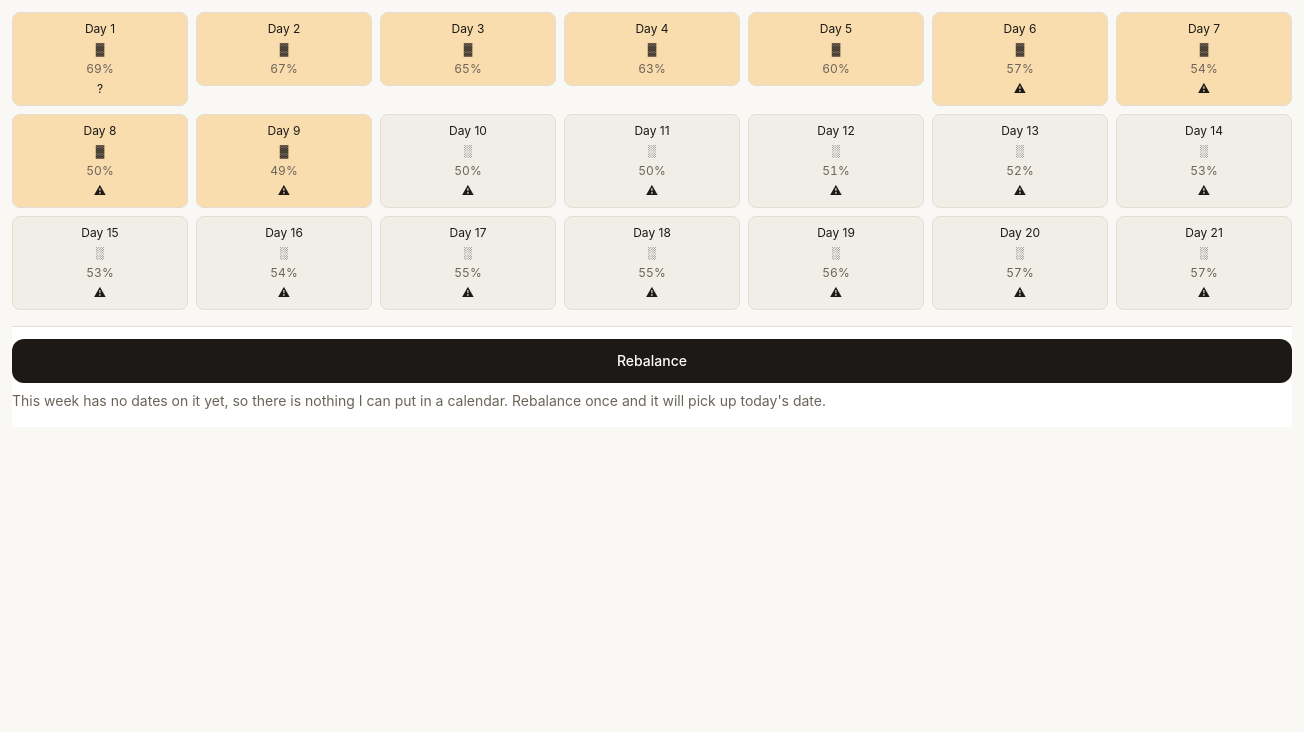
opening a deficit day › says why, rather than leaving the mark unexplained
Click the button with test id "^day-\\d+$" at (1020,59), box [932, 12, 1108, 106]
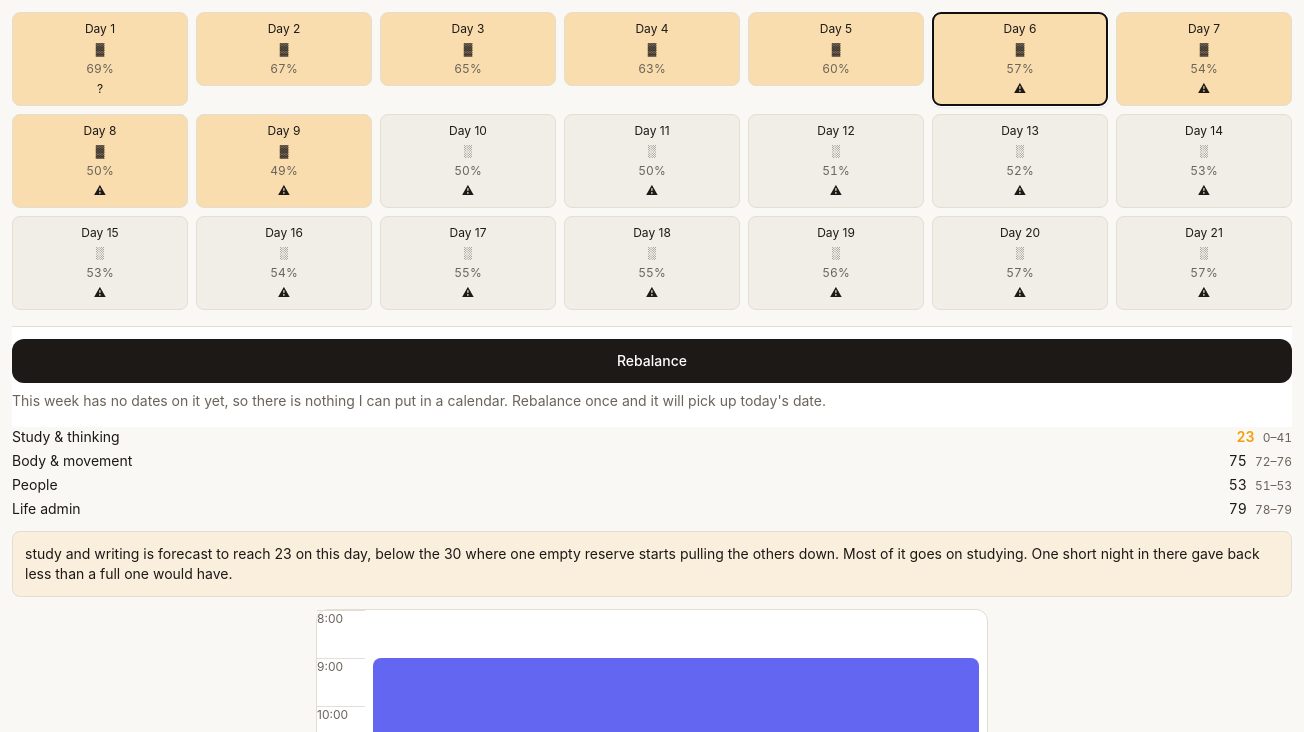
Expected: the message with test id "deficit-why" is shown, [12, 531, 1292, 597]
